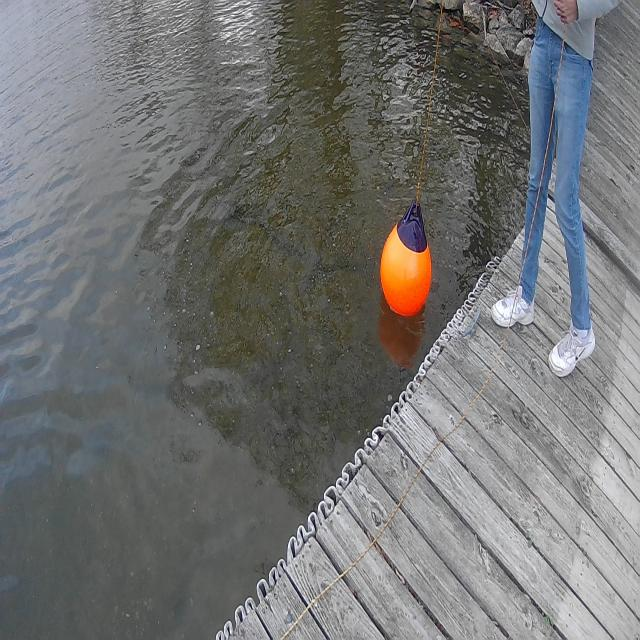Buoy: (378, 203, 435, 327)
